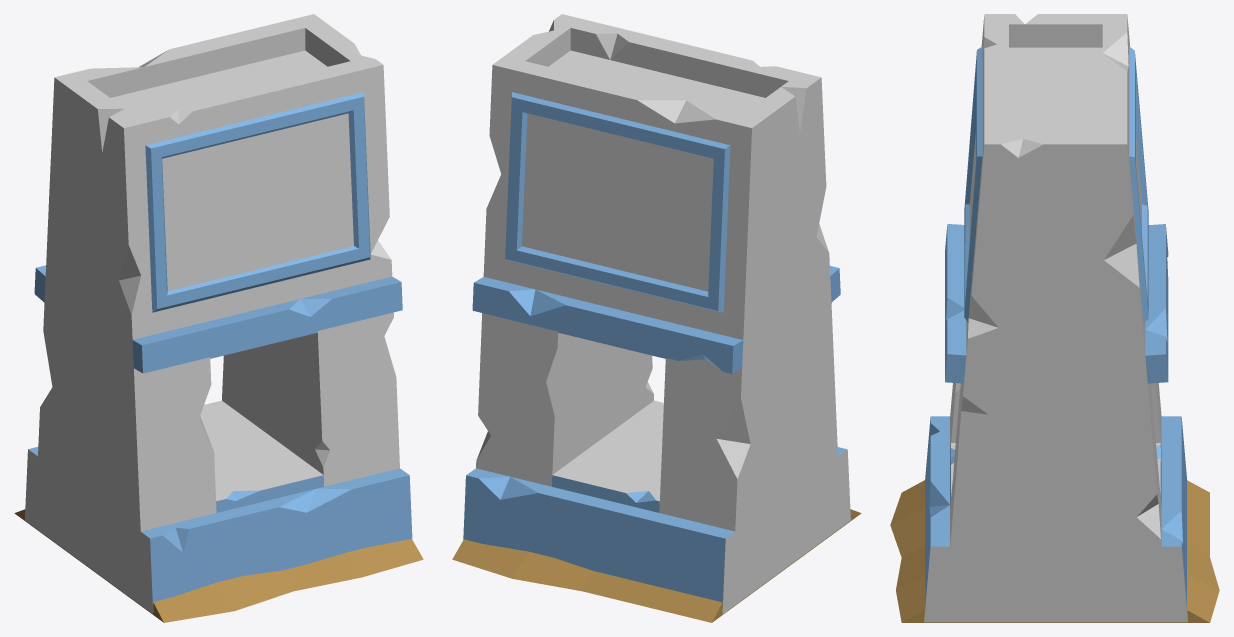
The model's file is StoneWallBoxBroken.fbx.
3 renders of one model, left to right at view 1: azimuth 30°, elevation 25°; view 2: azimuth 150°, elevation 25°; view 3: azimuth 270°, elevation 25°, orthographic. The views are drawn at different scales.
Parts seen in each view (by area): view 1: wallunit; view 2: wallunit; view 3: wallunit.
Boxes of the visible parts, bbox=[...] form: wallunit: bbox=[14, 14, 423, 622]; wallunit: bbox=[452, 14, 861, 622]; wallunit: bbox=[890, 14, 1219, 622].
Size of the model in its own units: 200 by 342 by 214.
